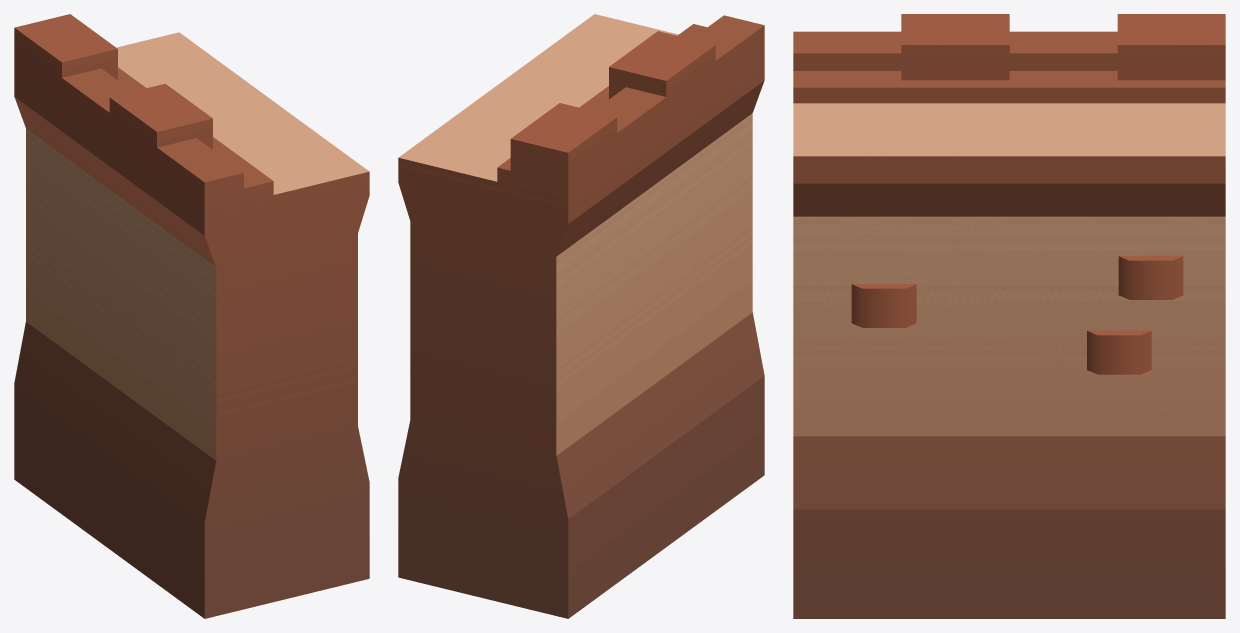
Rendered from wall-narrow.glb.
3 renders of one model, left to right at view 1: azimuth 30°, elevation 25°; view 2: azimuth 150°, elevation 25°; view 3: azimuth 270°, elevation 25°, orthographic. The views are drawn at different scales.
Visible parts, largest first — view 1: wall-narrow; view 2: wall-narrow; view 3: wall-narrow.
Part boxes in pixels (x1,y1,x2,y2): wall-narrow: (14,14,369,618); wall-narrow: (398,14,764,618); wall-narrow: (793,14,1225,618).
Bounding box in the file's own units: 1.5 × 3.93 × 3.
1 material, 1 textured.
